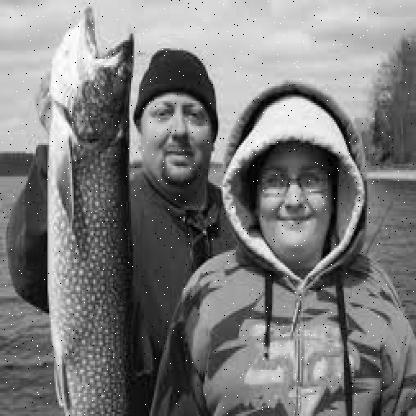fish: (38, 0, 134, 414)
